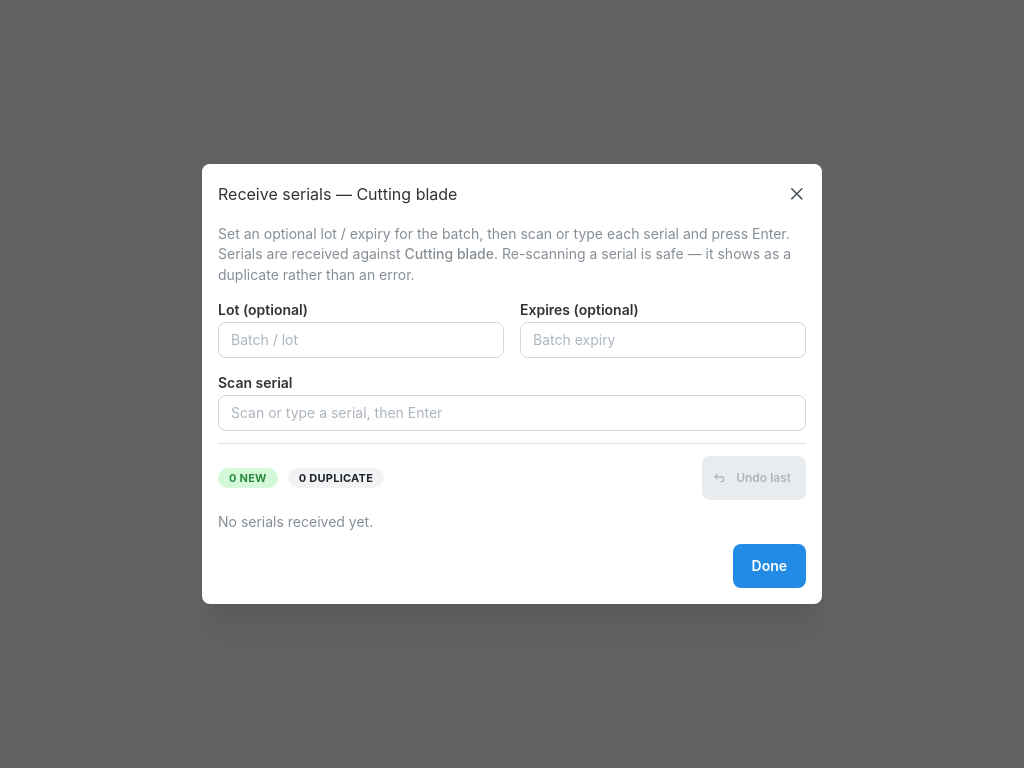
SerializedScanReceiveModal › undoes the last newly-received unit by disposing it
This screenshot has width=1024, height=768.
Type "SN-7" into the field with test id "scan-receive-serial" at (512, 413), box [218,395,806,431]
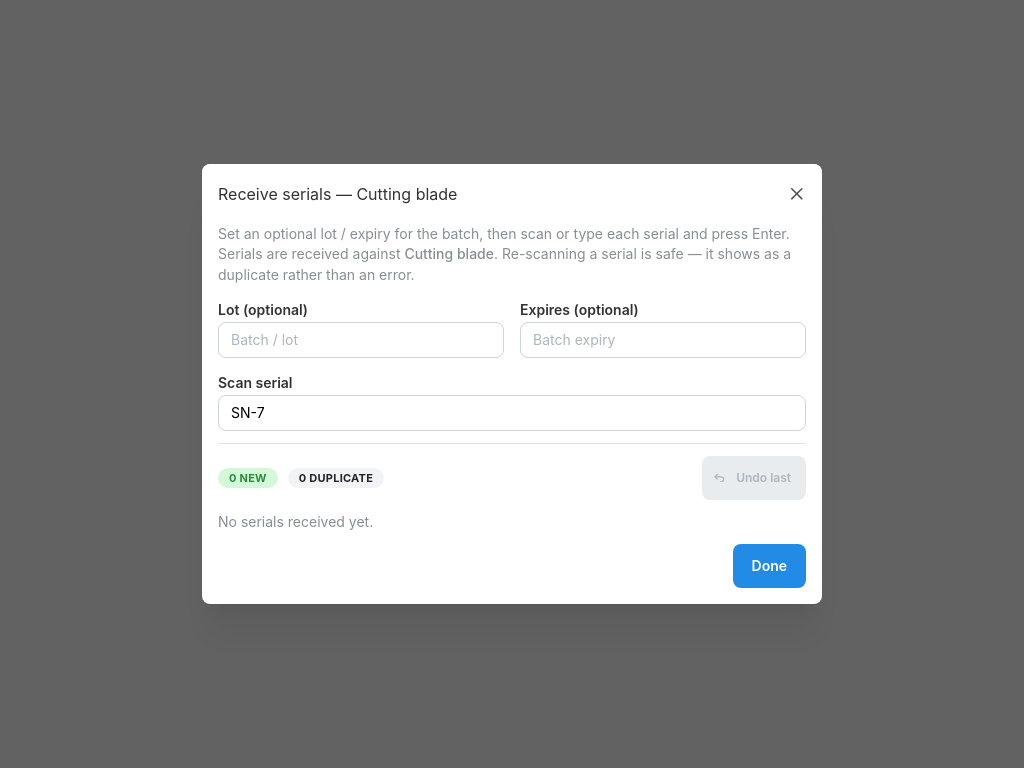
Submit the form with test id "scan-receive-form", box [218,370,806,431]
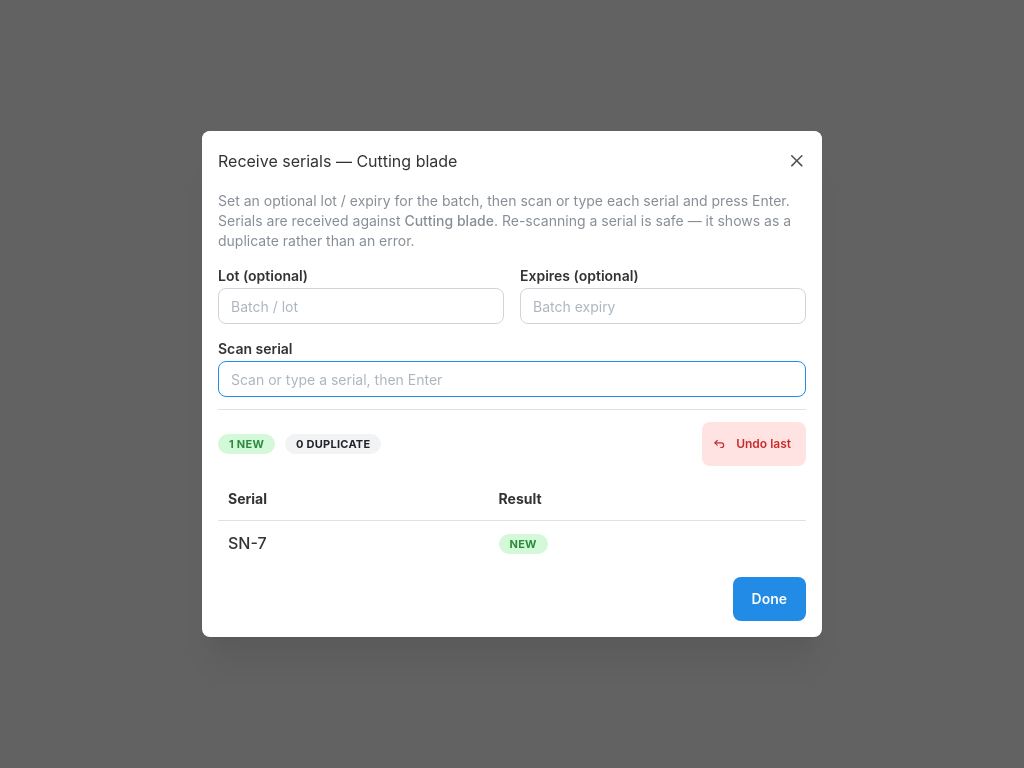
Expected: the text "SN-7" is shown, [228,533,267,553]
Click the button with test id "scan-receive-undo" at (754, 444), box [702,422,806,466]
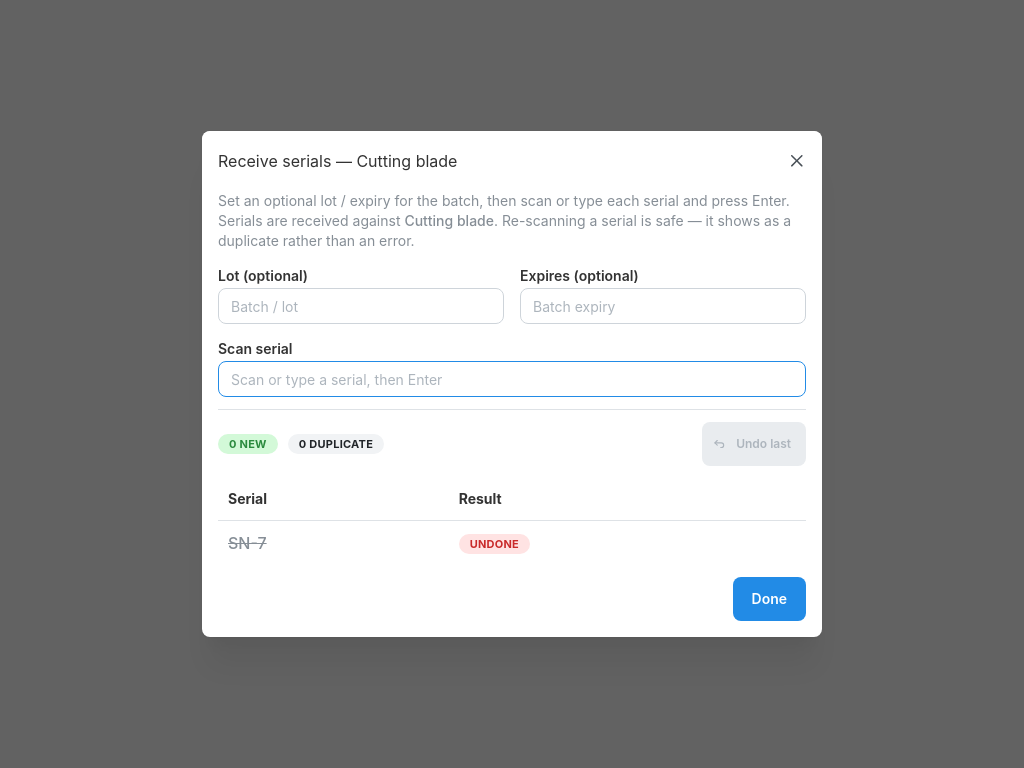
Expected: the text "Undone" is shown, [470,535,519,553]
Expected: the element with test id "scan-receive-new-count" reads "0 new", [218,434,278,454]
